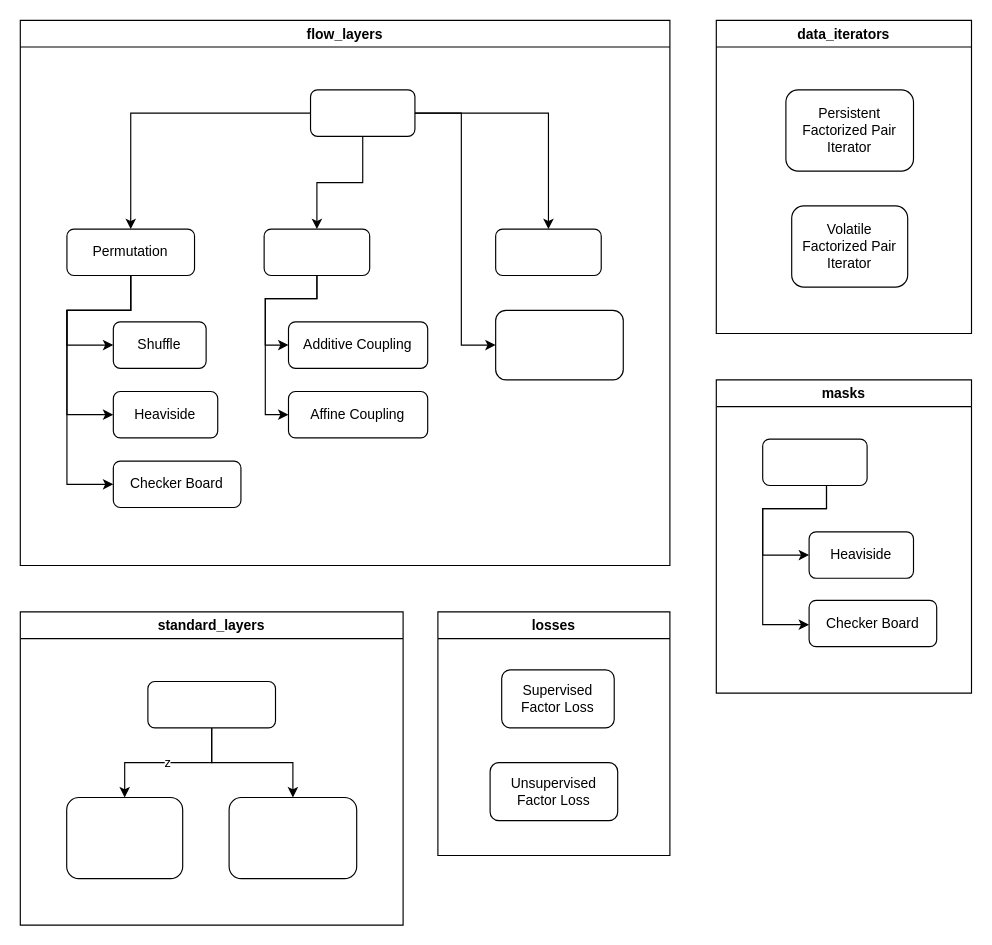
Image size: 992x945. Some labels were removed from this diagram. The shapes that lost their labels are listed below. From the top down, each one's centre as x and y in pixels, then its label:
At [362,112]: "Flow Layer".
At [316,252]: "Coupling".
At [548,252]: "Reflection".
At [559,344]: "Activation Normalization".
At [814,461]: "Mask".
At [211,704]: "Standard Layer".
At [124,837]: "Basic Fully Connected Network".
At [292,837]: "Channel-wise Convolution Two Axes".
